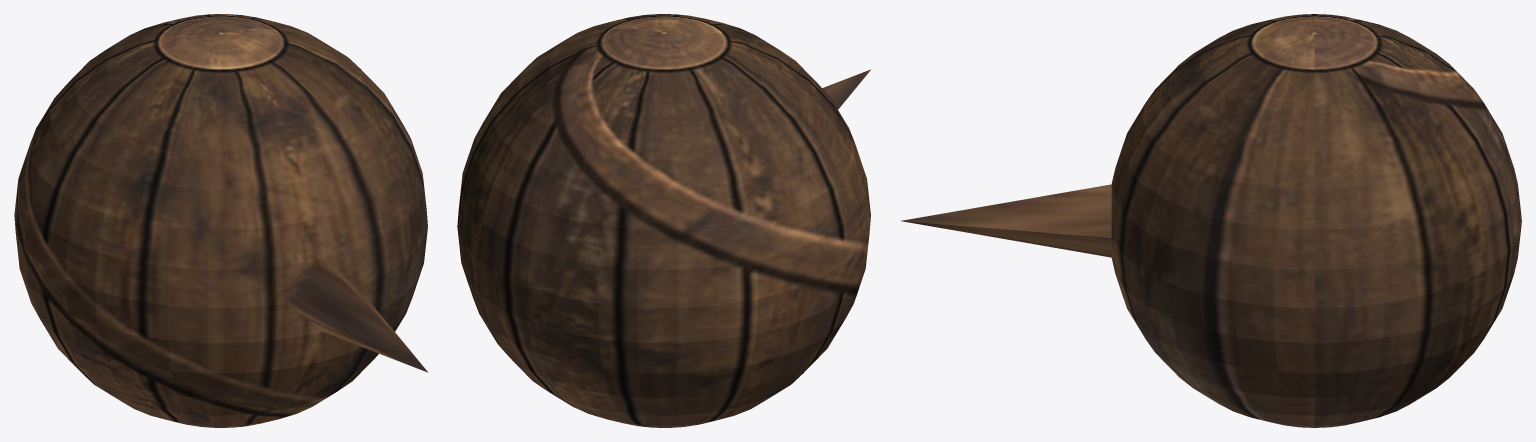
Rendered from player.obj.
3 renders of one model, left to right at view 1: azimuth 30°, elevation 25°; view 2: azimuth 150°, elevation 25°; view 3: azimuth 270°, elevation 25°, orthographic.
Parts seen in each view (by area): view 1: 球; view 2: 球; view 3: 球.
Boxes of the visible parts, x1,y1,x2,y2 form: 球: (14,14,427,427); 球: (457,14,870,427); 球: (901,14,1521,427).
Size of the model in its own units: 2 by 2 by 3.
